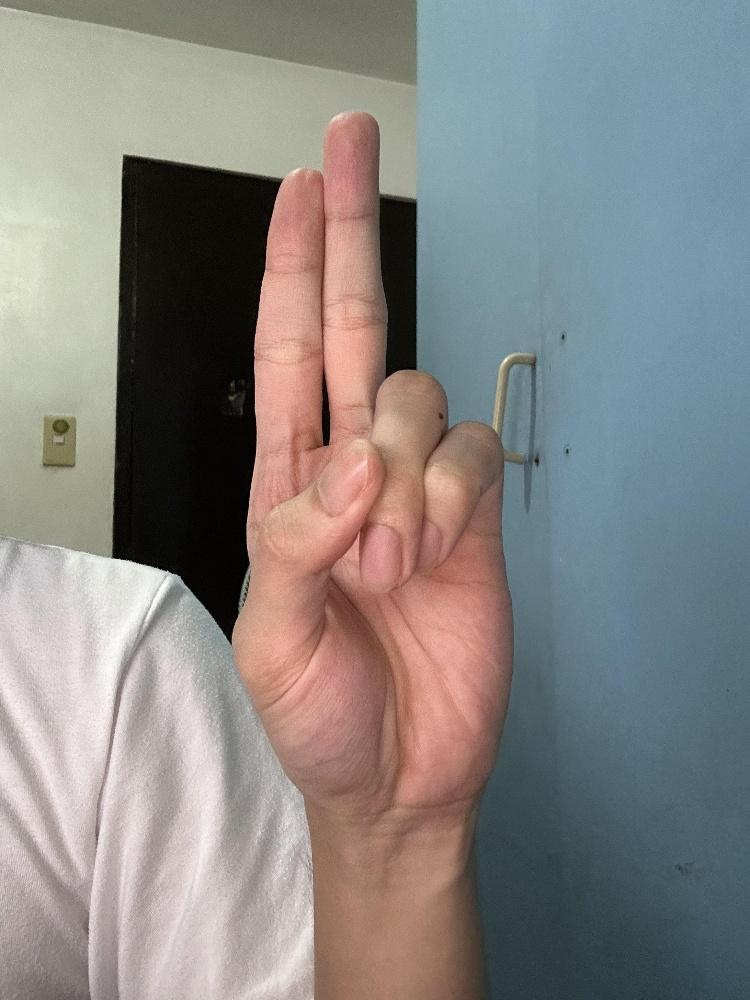u: (227, 106, 520, 815)
